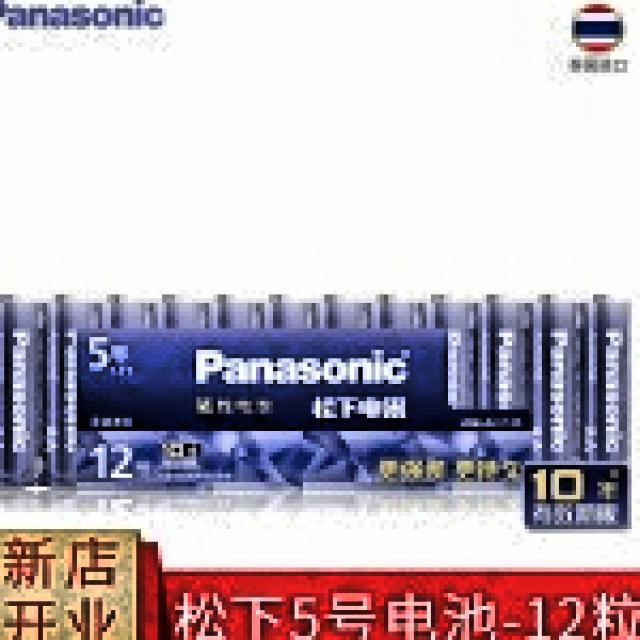Non-Valuable Waste - Batteries: (0, 295, 630, 486)
